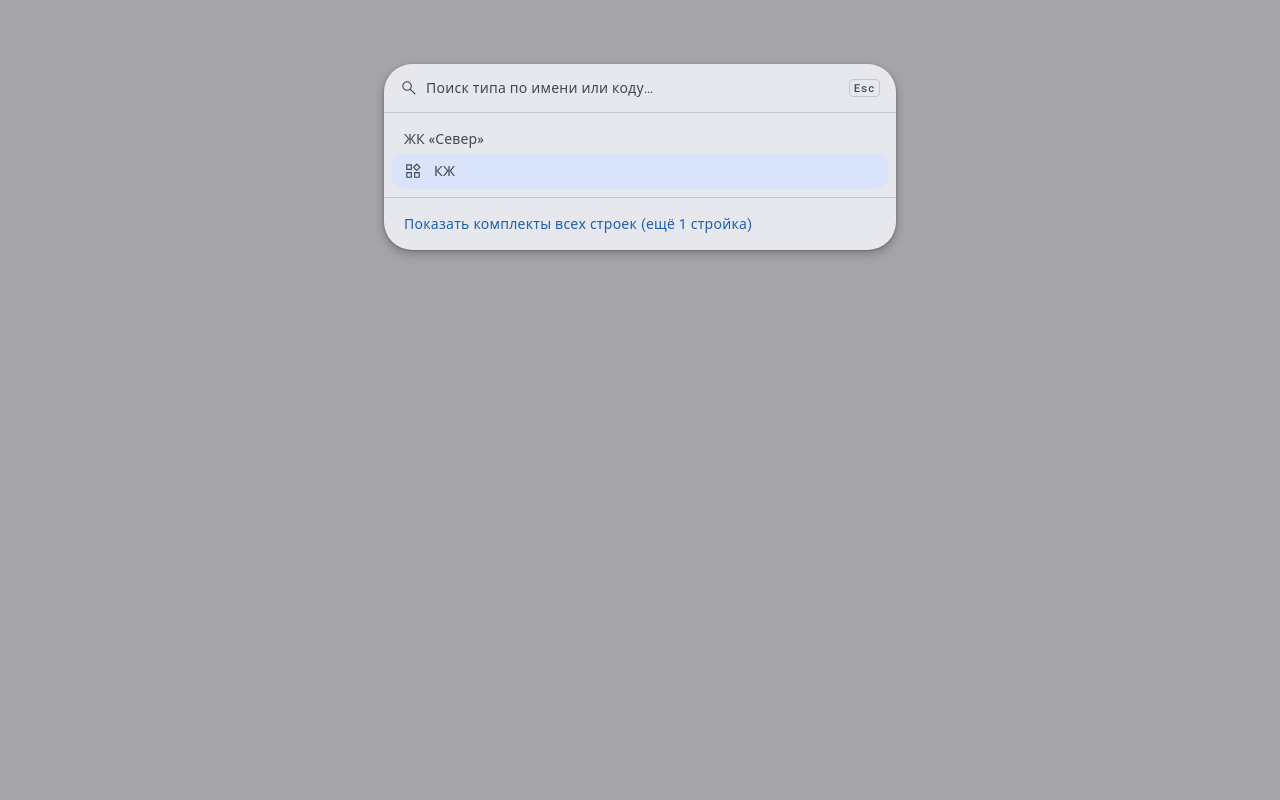
Scenario: TypePicker: пункты в стороне (#1219) › одноимённые стройки по обе стороны — две группы, без дубля ключа
The image size is (1280, 800).
Step 1. Click the button "Показать комплекты всех строек (ещё 1 стройка)" → {"x": 640, "y": 224}, box x1=392 y1=206 x2=888 y2=242
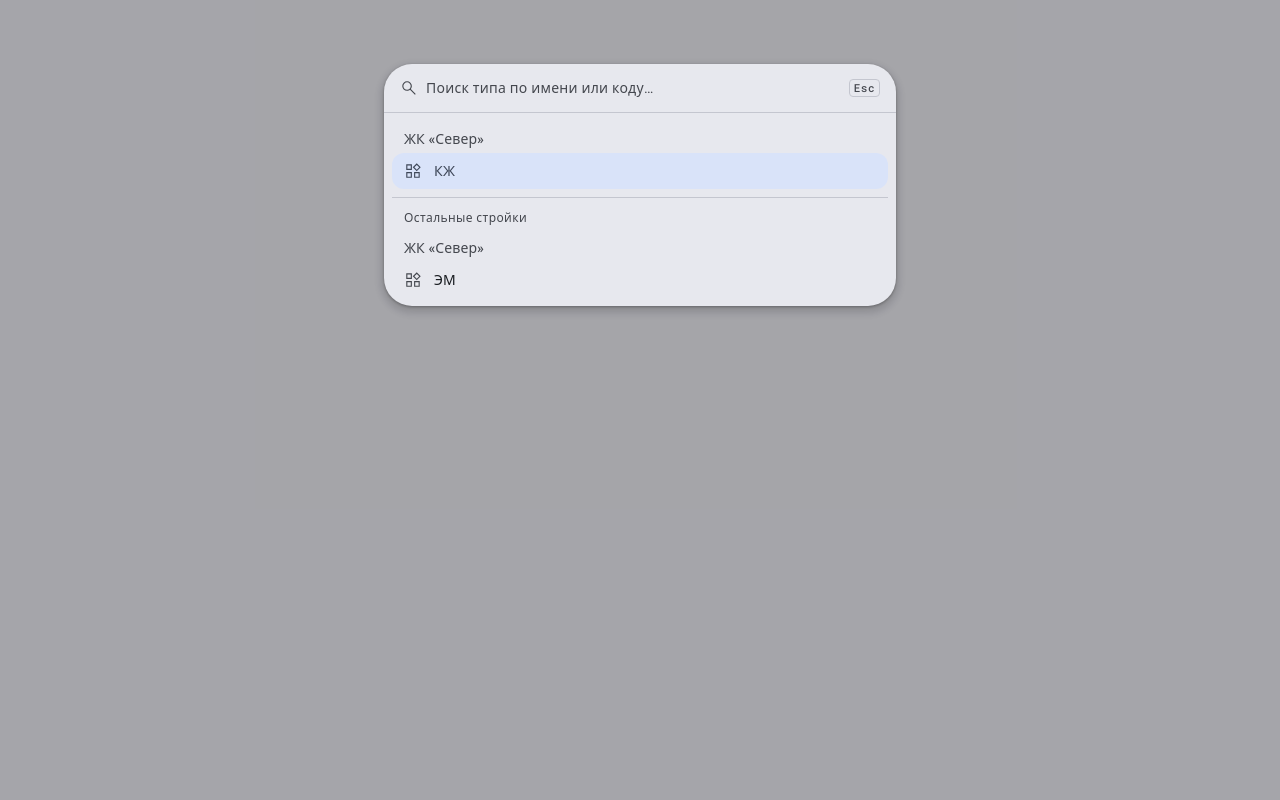
Expected: the text "ЖК «Север»" is shown 2 times, x1=404 y1=131 x2=484 y2=147; x1=404 y1=240 x2=484 y2=256
